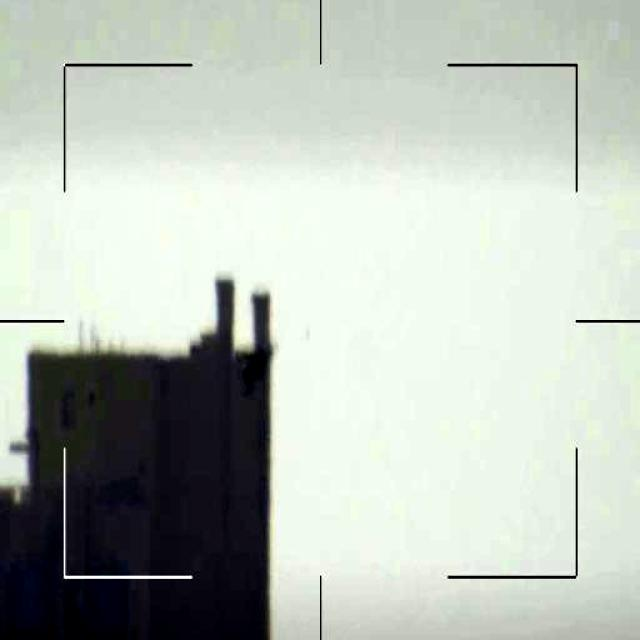bird: (222, 342, 281, 402)
